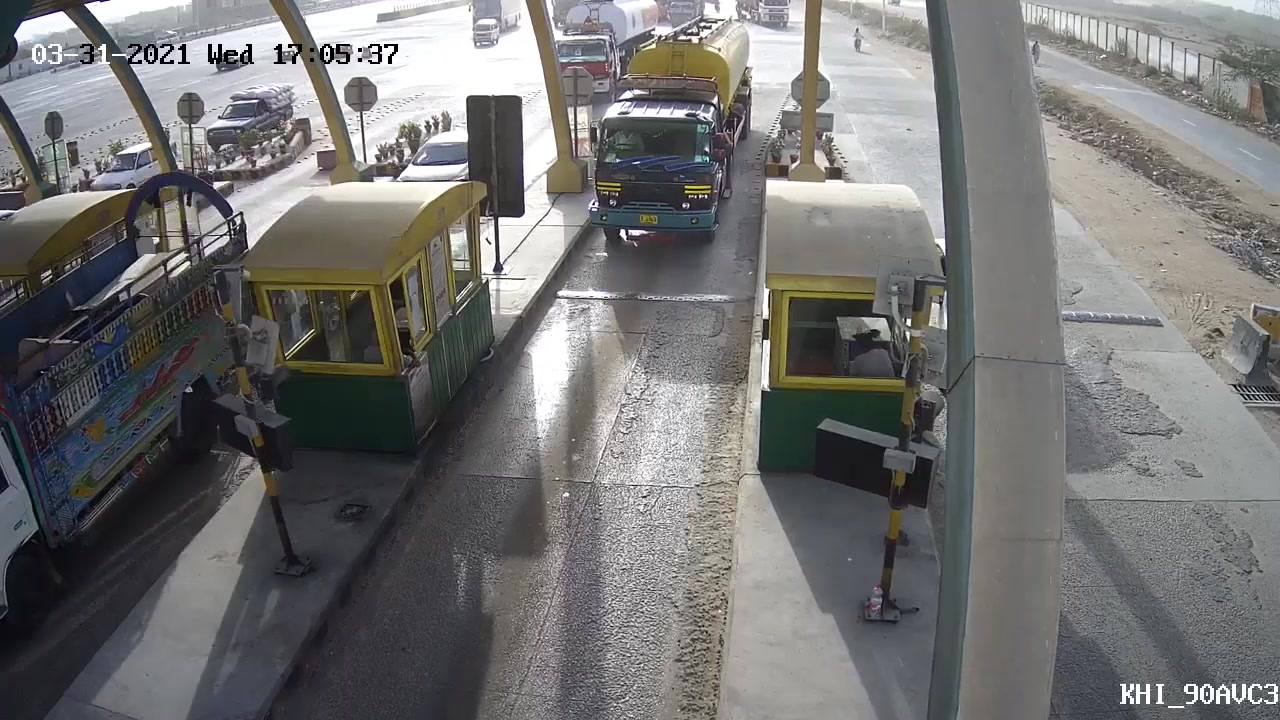F5: (582, 34, 761, 244)
